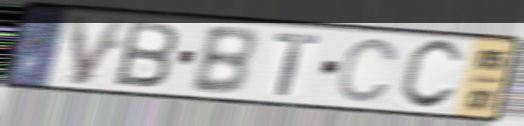B: (186, 25, 259, 98), (112, 19, 182, 90)
C: (395, 37, 466, 113), (335, 36, 402, 105)
T: (273, 31, 322, 99)
V: (67, 12, 132, 88)
